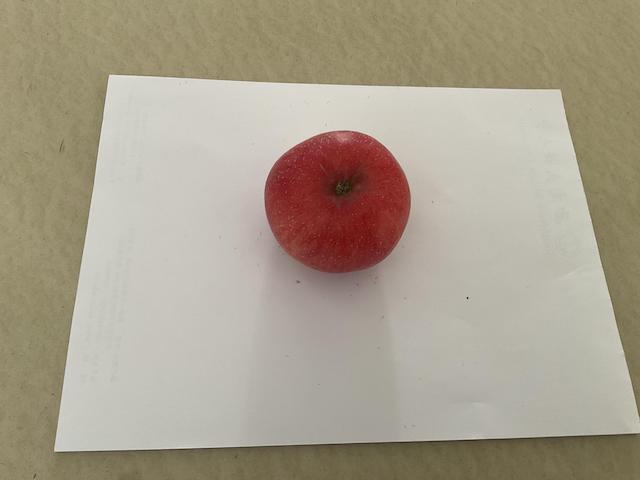apple: (257, 123, 414, 276)
